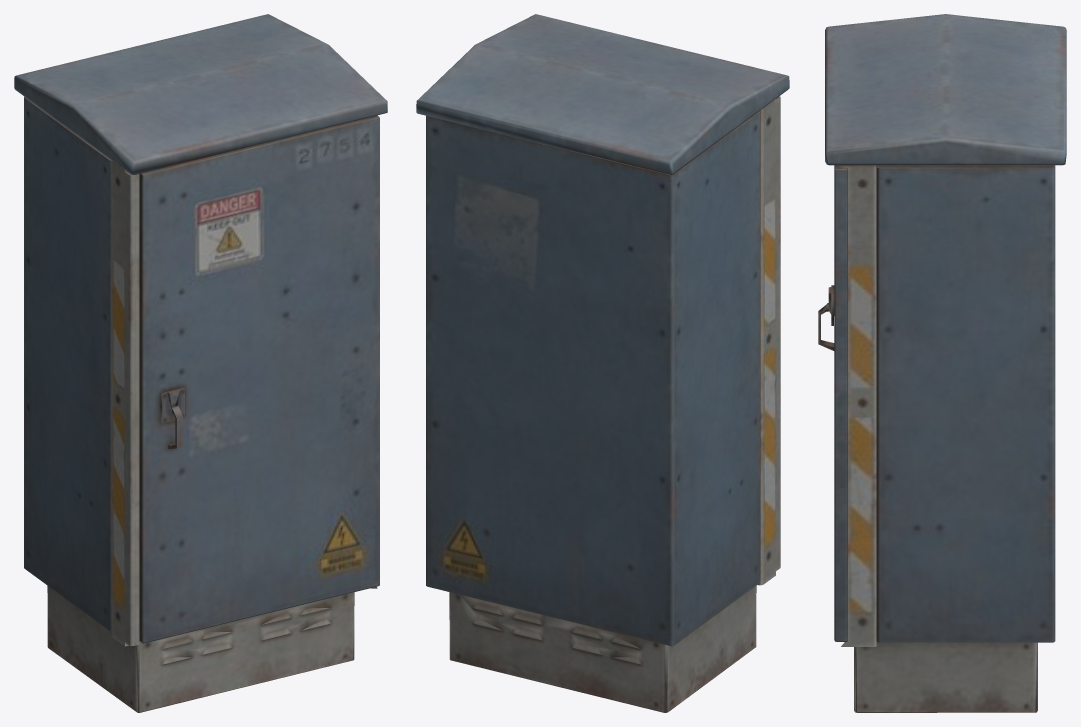
The model's file is utility_box.glb.
3 renders of one model, left to right at view 1: azimuth 30°, elevation 25°; view 2: azimuth 150°, elevation 25°; view 3: azimuth 270°, elevation 25°, orthographic.
Size of the model in its own units: 0.52 by 1.12 by 0.432.
Materials: 1 (1 with a texture image).
